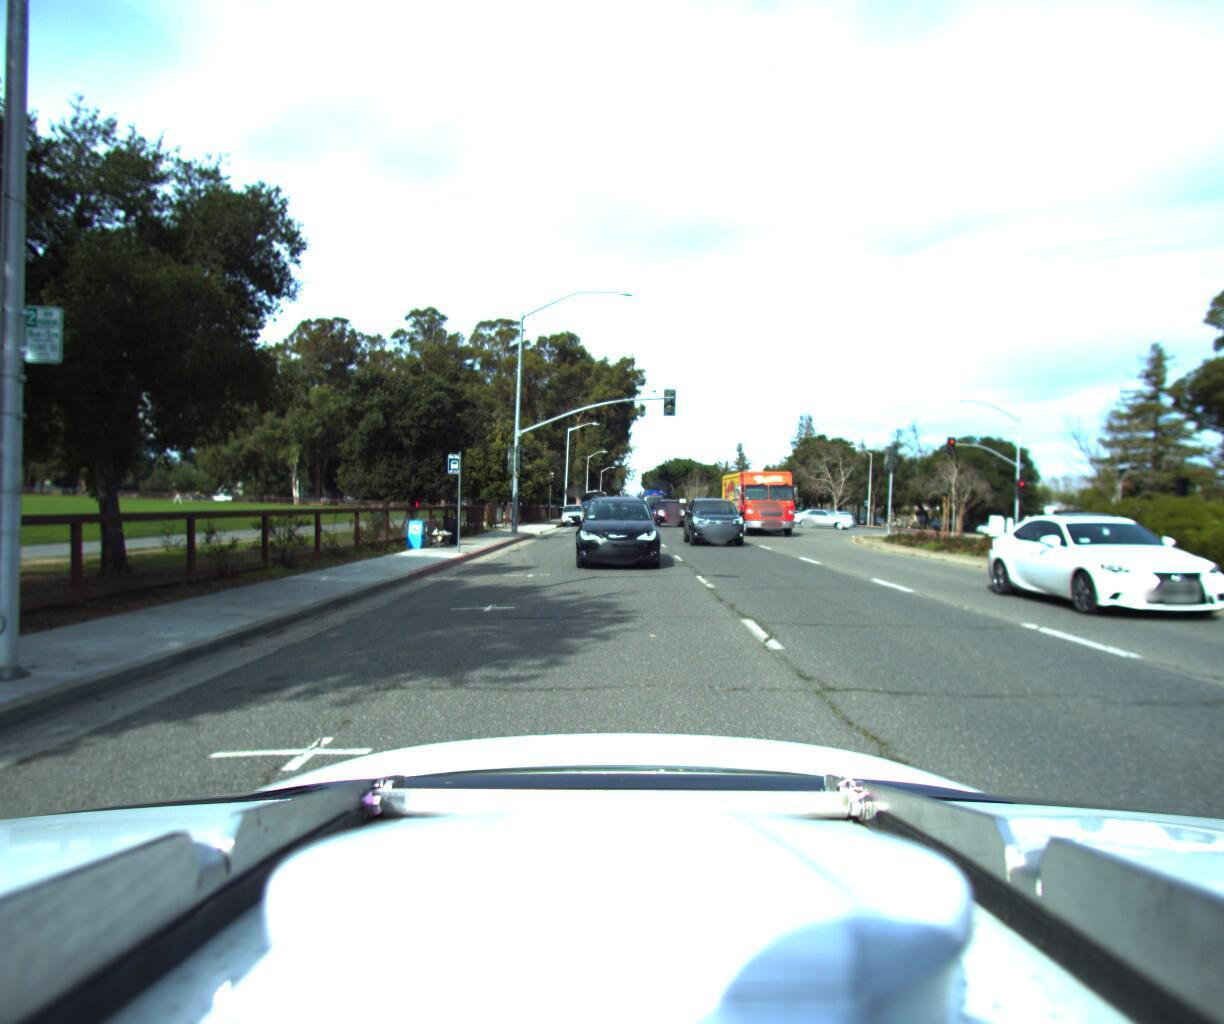bus: (636, 482, 667, 514)
car: (1012, 506, 1224, 643), (571, 481, 661, 565), (683, 490, 753, 543), (794, 501, 862, 523), (650, 489, 686, 520), (606, 486, 634, 511), (560, 496, 585, 519)
truck: (720, 462, 803, 535)
